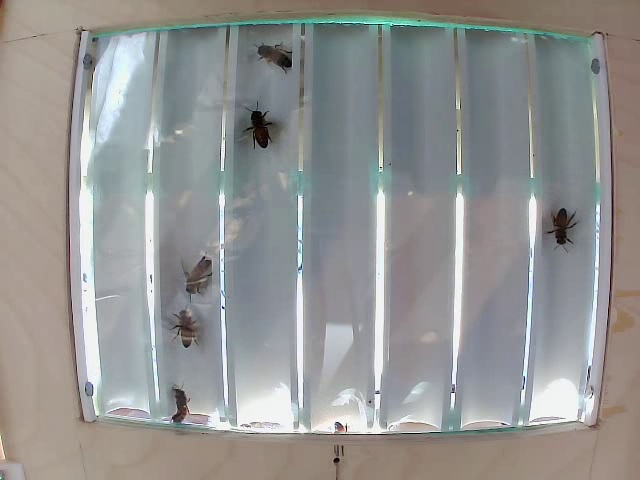bee: (168, 250, 226, 293), (247, 110, 292, 164), (541, 201, 579, 259), (164, 314, 208, 346), (261, 39, 299, 72)
